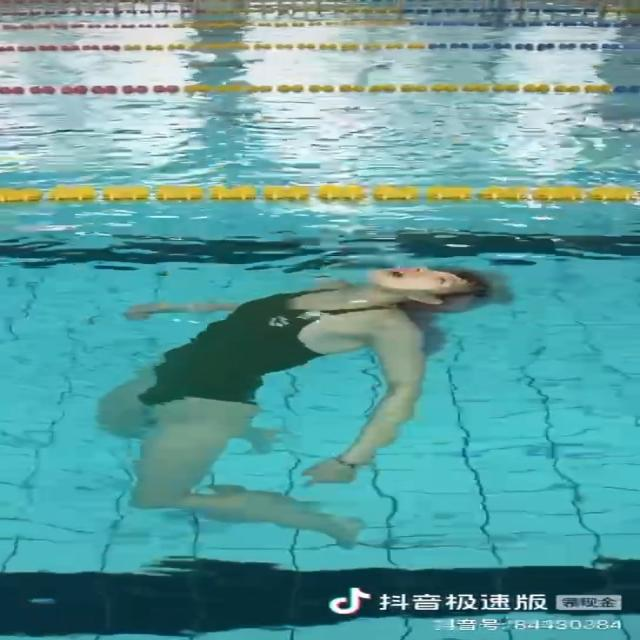Drowning: (91, 264, 509, 548)
